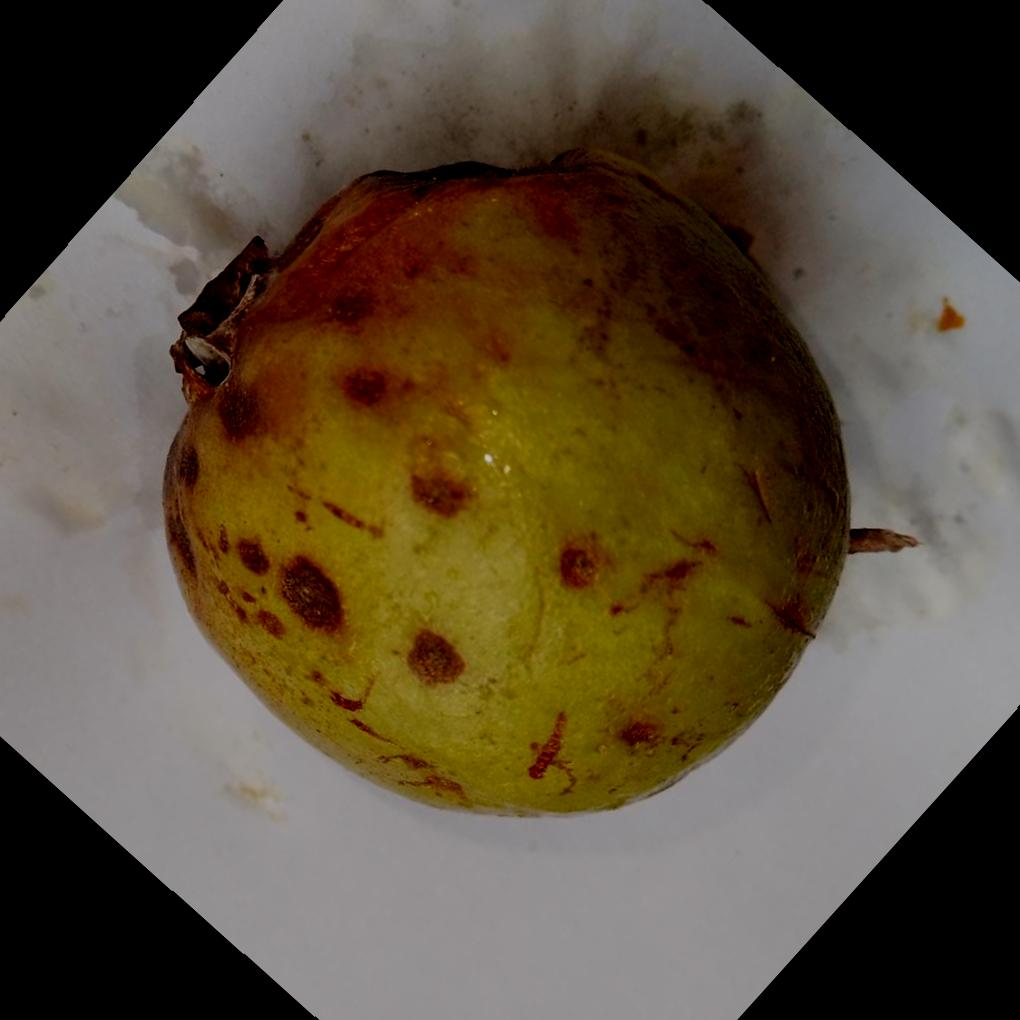FreshOrange: (158, 150, 854, 820)
